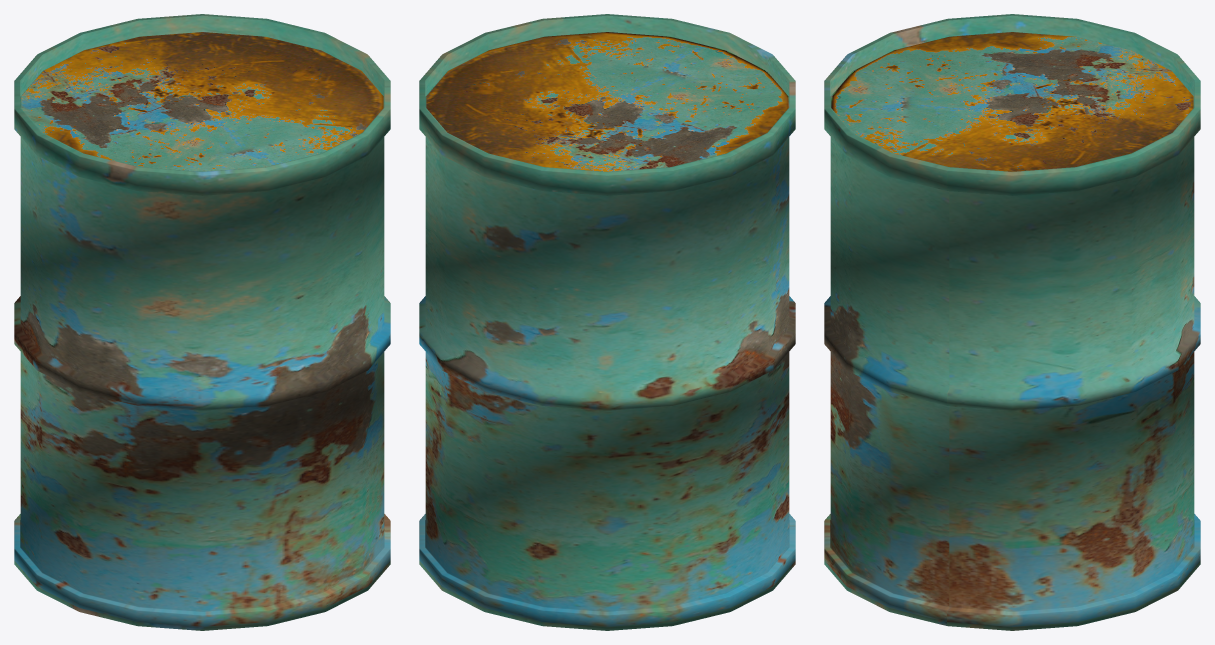
Rendered from barrels-03.FBX.
The picture shows the model from 3 angles, left to right: view 1: azimuth 30°, elevation 25°; view 2: azimuth 150°, elevation 25°; view 3: azimuth 270°, elevation 25°; orthographic projection.
Parts seen in each view (by area): view 1: Cylinder001; view 2: Cylinder001; view 3: Cylinder001.
Part boxes in pixels (x1,y1,x2,y2): Cylinder001: [14, 14, 390, 630]; Cylinder001: [419, 14, 795, 630]; Cylinder001: [824, 14, 1200, 630].
Size of the model in its own units: 29.89 by 39.42 by 29.44.
1 material, 1 textured.
